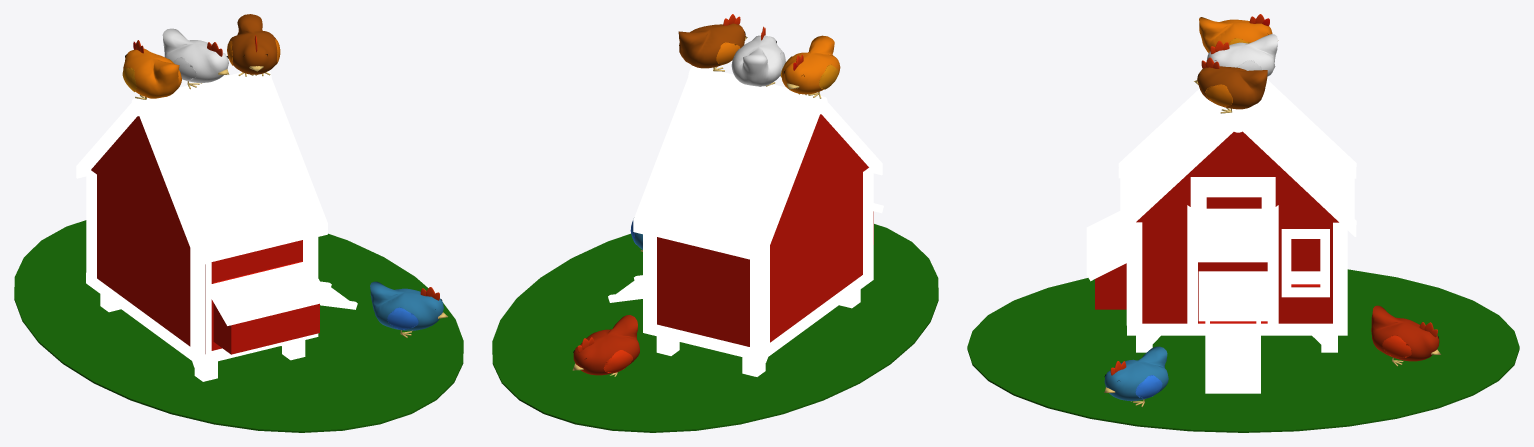
The model's file is galinheiro.gltf.
3 views of the same model, side by side, from view 1: azimuth 30°, elevation 25°; view 2: azimuth 150°, elevation 25°; view 3: azimuth 270°, elevation 25° (orthographic). The views are drawn at different scales.
Visible parts, largest first — view 1: chao, paredes, telhado, Parte de baixo, galinha_azul, galinha_branca, galinha_laranja, galinha_marrom, rampinha; view 2: chao, paredes, telhado, Parte de baixo, galinha_vermelha, galinha_marrom, galinha_laranja, galinha_branca, rampinha; view 3: chao, paredes, telhado, Parte de baixo, rampinha, galinha_vermelha, galinha_marrom, galinha_azul, galinha_branca, galinha_laranja.
Part boxes in pixels (left/top/right/bottom): chao: left=14, top=220, right=463, bottom=432; paredes: left=86, top=116, right=328, bottom=355; telhado: left=76, top=70, right=327, bottom=266; Parte de baixo: left=86, top=273, right=318, bottom=381; galinha_azul: left=370, top=281, right=447, bottom=337; galinha_branca: left=162, top=28, right=229, bottom=89; galinha_laranja: left=122, top=40, right=181, bottom=99; galinha_marrom: left=227, top=14, right=280, bottom=76; rampinha: left=320, top=281, right=357, bottom=309; chao: left=492, top=224, right=938, bottom=432; paredes: left=643, top=114, right=883, bottom=351; telhado: left=633, top=66, right=882, bottom=263; Parte de baixo: left=643, top=269, right=873, bottom=376; galinha_vermelha: left=572, top=315, right=639, bottom=376; galinha_marrom: left=678, top=14, right=747, bottom=71; galinha_laranja: left=780, top=35, right=840, bottom=98; galinha_branca: left=731, top=26, right=785, bottom=86; rampinha: left=608, top=275, right=642, bottom=302; chao: left=967, top=269, right=1519, bottom=432; paredes: left=1086, top=131, right=1347, bottom=331; telhado: left=1118, top=79, right=1356, bottom=236; Parte de baixo: left=1127, top=271, right=1347, bottom=352; rampinha: left=1205, top=321, right=1260, bottom=393; galinha_vermelha: left=1371, top=305, right=1440, bottom=366; galinha_marrom: left=1194, top=57, right=1267, bottom=113; galinha_azul: left=1104, top=346, right=1168, bottom=406; galinha_branca: left=1206, top=34, right=1277, bottom=76; galinha_laranja: left=1199, top=14, right=1278, bottom=52.
Size of the model in its own units: 4.53 by 3.66 by 6.28.
